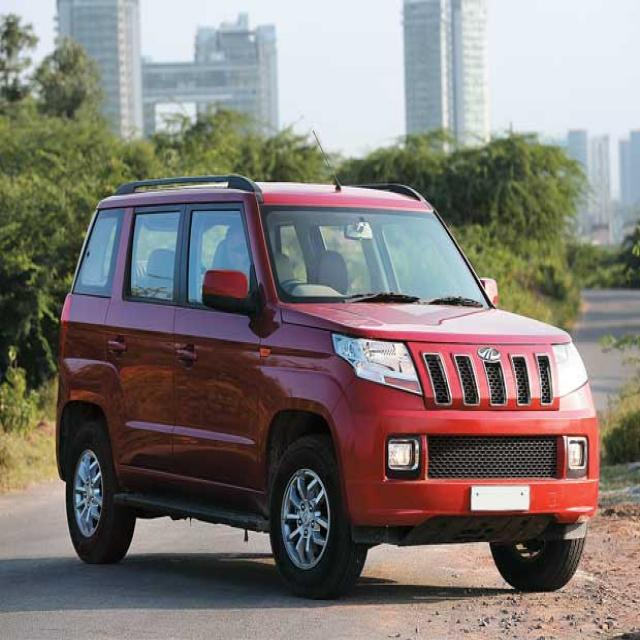light_vehicle: (53, 163, 594, 604)
